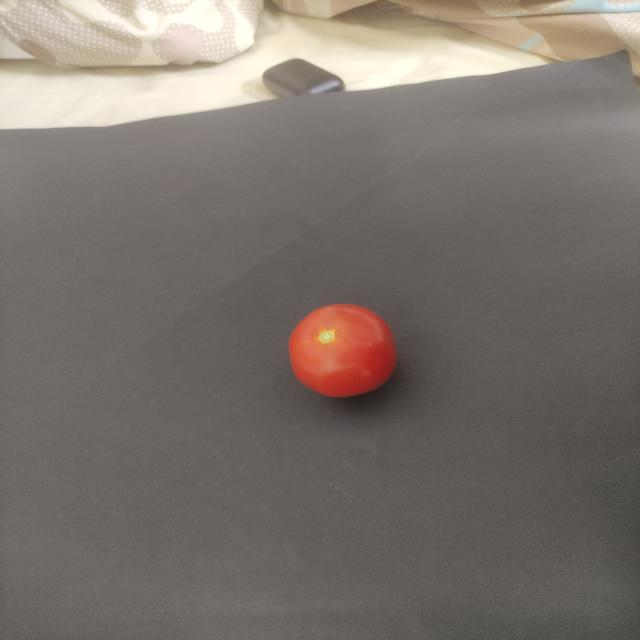kirmizi: (271, 294, 405, 410)
